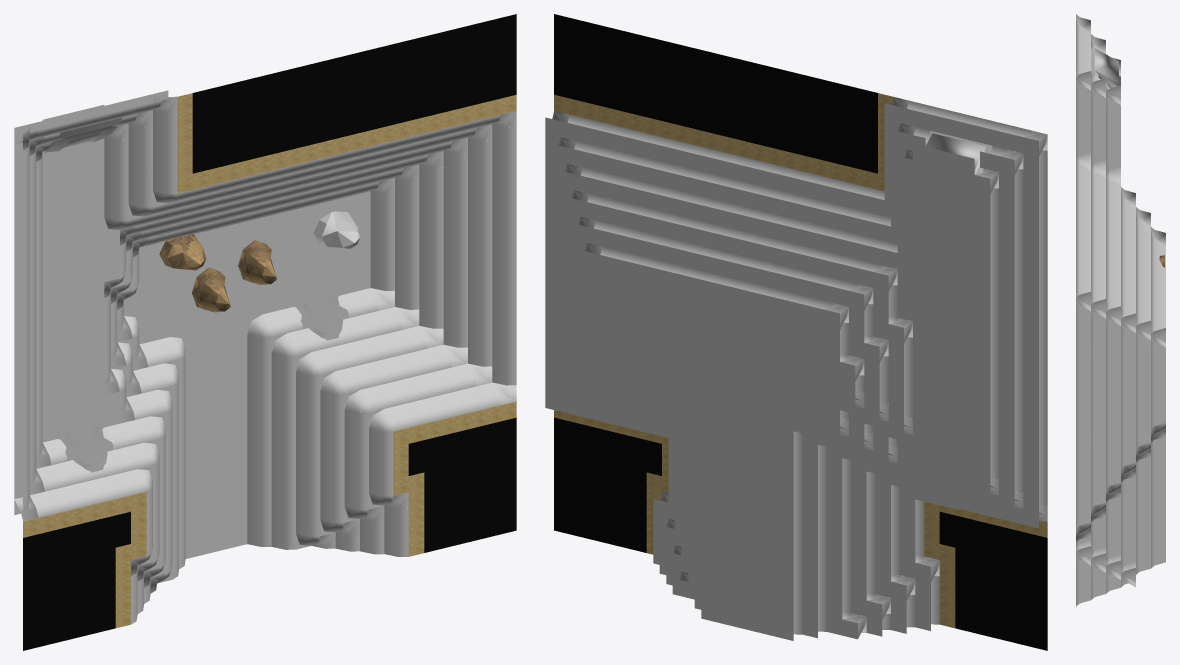
The model's file is Subterranean-Cave-2_02_01.obj.
The picture shows the model from 3 angles, left to right: view 1: azimuth 30°, elevation 25°; view 2: azimuth 150°, elevation 25°; view 3: azimuth 270°, elevation 25°; orthographic projection. The views are drawn at different scales.
Visible parts, largest first — view 1: map; view 2: map; view 3: map.
Part boxes in pixels (x1=…): map: x1=14, y1=14, x2=516, y2=650; map: x1=545, y1=14, x2=1047, y2=650; map: x1=1076, y1=14, x2=1165, y2=606.
Size of the model in its own units: 32 by 32 by 6.
